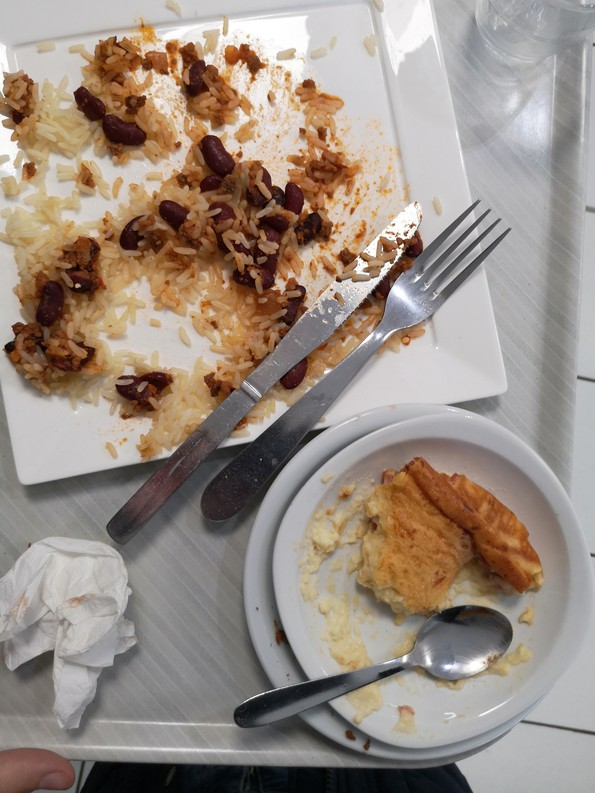cup: (482, 4, 595, 73)
cutlery: (110, 194, 534, 552), (230, 600, 525, 730)
orga: (16, 46, 280, 340), (354, 468, 540, 603)
trash: (1, 521, 137, 717)
